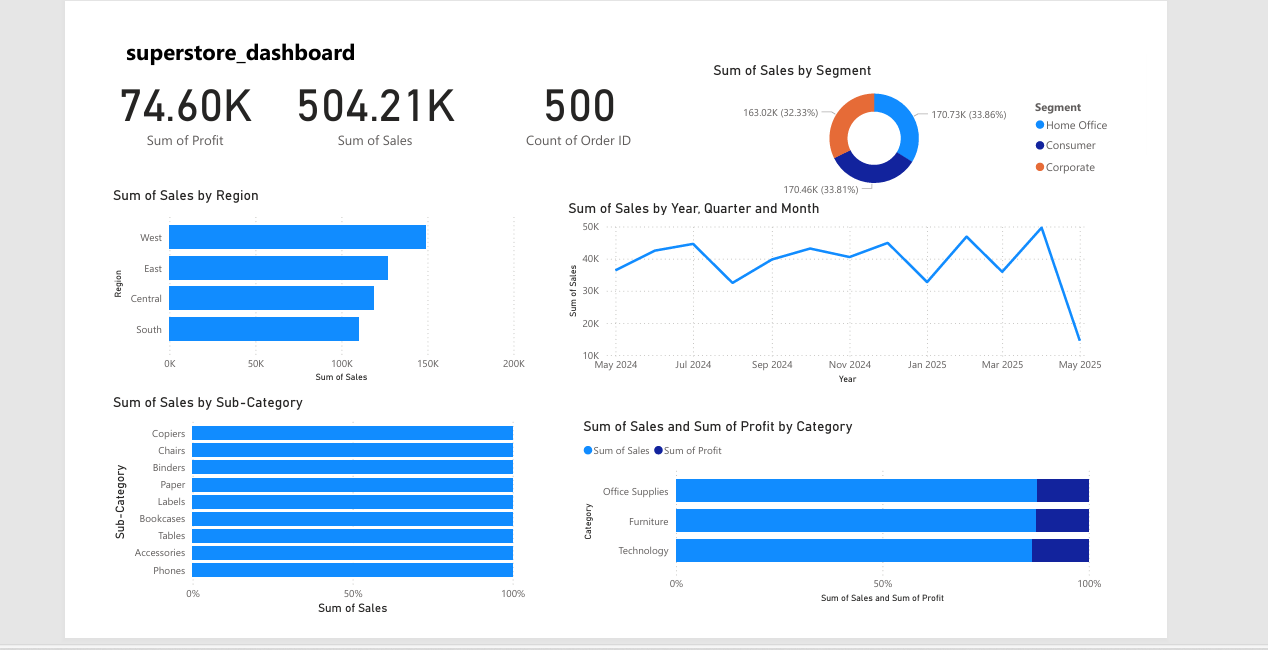

The page's visual inventory and layout, read from the dashboard file:
{"tool":"powerbi","page":{"name":"Superstore Sales Dashboard","canvas":[1280,720],"ordinal":0},"visuals":[{"type":"clusteredBarChart","fields":{"Category":["superstore_mock_v2.Region"],"Y":["Sum(superstore_mock_v2.Sales)"]},"box":[28.6,199.9,507.3,240.2],"z":0},{"type":"lineChart","fields":{"Category":["superstore_mock_v2.Order Date.Variation.Date Hierarchy.Year","superstore_mock_v2.Order Date.Variation.Date Hierarchy.Quarter","superstore_mock_v2.Order Date.Variation.Date Hierarchy.Month","superstore_mock_v2.Order Date.Variation.Date Hierarchy.Day"],"Y":["Sum(superstore_mock_v2.Sales)"]},"box":[577.8,215,653.4,226.8],"z":1},{"type":"hundredPercentStackedBarChart","fields":{"Category":["superstore_mock_v2.Category"],"Y":["Sum(superstore_mock_v2.Sales)","Sum(superstore_mock_v2.Profit)"]},"box":[596.3,478.7,635,226.8],"z":2},{"type":"hundredPercentStackedBarChart","fields":{"Category":["superstore_mock_v2.Sub-Category"],"Y":["Sum(superstore_mock_v2.Sales)"]},"box":[28.6,448.5,507.3,272.1],"z":3},{"type":"donutChart","fields":{"Category":["superstore_mock_v2.Segment"],"Y":["Sum(superstore_mock_v2.Sales)"]},"box":[752.5,48.7,495.5,166.3],"z":4},{"type":"card","fields":{"Values":["Sum(superstore_mock_v2.Sales)"]},"box":[233.5,42,233.5,126],"z":5},{"type":"card","fields":{"Values":["Sum(superstore_mock_v2.Profit)"]},"box":[28.6,48.7,184.8,112.5],"z":6},{"type":"card","fields":{"Values":["CountNonNull(superstore_mock_v2.Order ID)"]},"box":[467,48.7,257,112.5],"z":7},{"type":"textbox","box":[45.4,13.4,336,55.4],"z":8}]}

Visuals, with their boxes on the page's 1280x720 design canvas (x1, y1, x2, y2). These are canvas units, not pixel positions in the 1268x650 screenshot, which may show the page scaled, cropped or inside an application window:
clusteredBarChart - superstore_mock_v2.Region x Sum(superstore_mock_v2.Sales): <box>29,200,536,440</box>
lineChart - superstore_mock_v2.Order Date.Variation.Date Hierarchy.Year x superstore_mock_v2.Order Date.Variation.Date Hierarchy.Quarter: <box>578,215,1231,442</box>
hundredPercentStackedBarChart - superstore_mock_v2.Category x Sum(superstore_mock_v2.Sales): <box>596,479,1231,706</box>
hundredPercentStackedBarChart - superstore_mock_v2.Sub-Category x Sum(superstore_mock_v2.Sales): <box>29,448,536,721</box>
donutChart - superstore_mock_v2.Segment x Sum(superstore_mock_v2.Sales): <box>752,49,1248,215</box>
card - Sum(superstore_mock_v2.Sales): <box>234,42,467,168</box>
card - Sum(superstore_mock_v2.Profit): <box>29,49,213,161</box>
card - CountNonNull(superstore_mock_v2.Order ID): <box>467,49,724,161</box>
textbox: <box>45,13,381,69</box>
